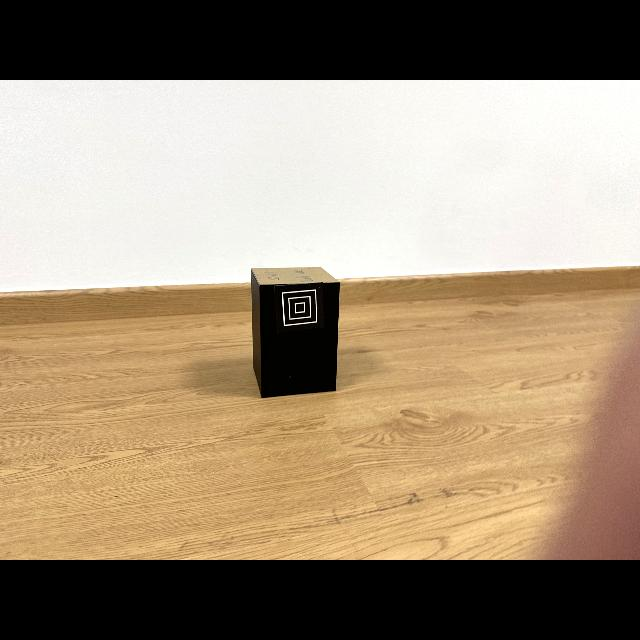BULLSEYE: (274, 282, 324, 333)
